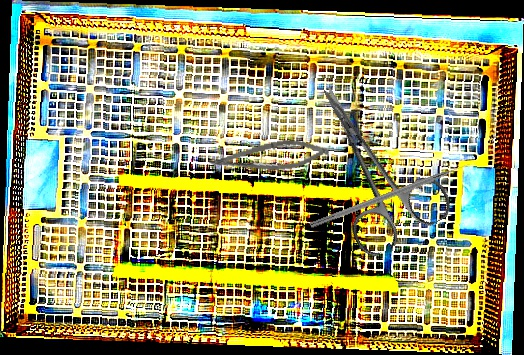Hook Surgical: (309, 161, 472, 231)
Iris Scissors: (284, 62, 458, 261)
Micro Scissor: (206, 132, 331, 183)
